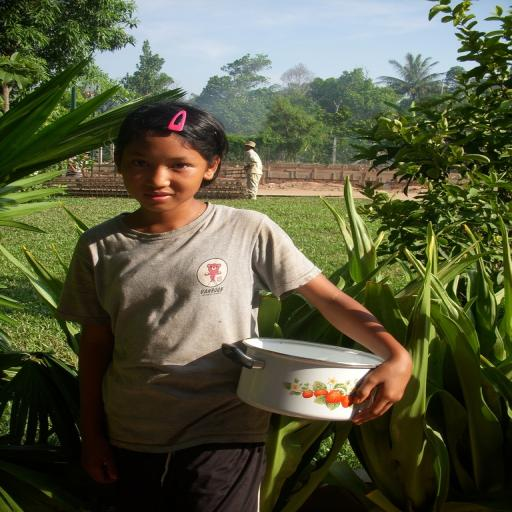Person: (75, 53, 395, 505)
no_gloves: (301, 318, 390, 429)
no_goggle: (147, 146, 231, 186)
no_helmet: (140, 88, 245, 208)
none: (116, 201, 286, 467)
